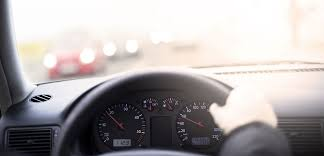Digital_Meter: (110, 138, 132, 149), (190, 137, 211, 144)
